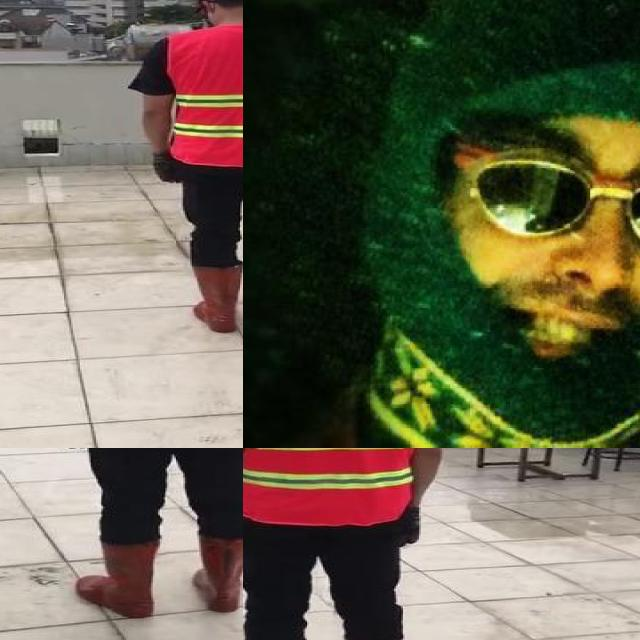boots: (75, 541, 160, 620), (192, 534, 243, 614), (190, 264, 242, 333)
face_nomask: (442, 136, 640, 367)
glasses: (445, 144, 640, 261)
hand_glove: (396, 508, 421, 547), (151, 152, 178, 184)
person: (243, 448, 462, 640), (127, 0, 243, 335), (36, 448, 243, 634)
vest: (243, 448, 429, 525), (165, 26, 243, 168)
